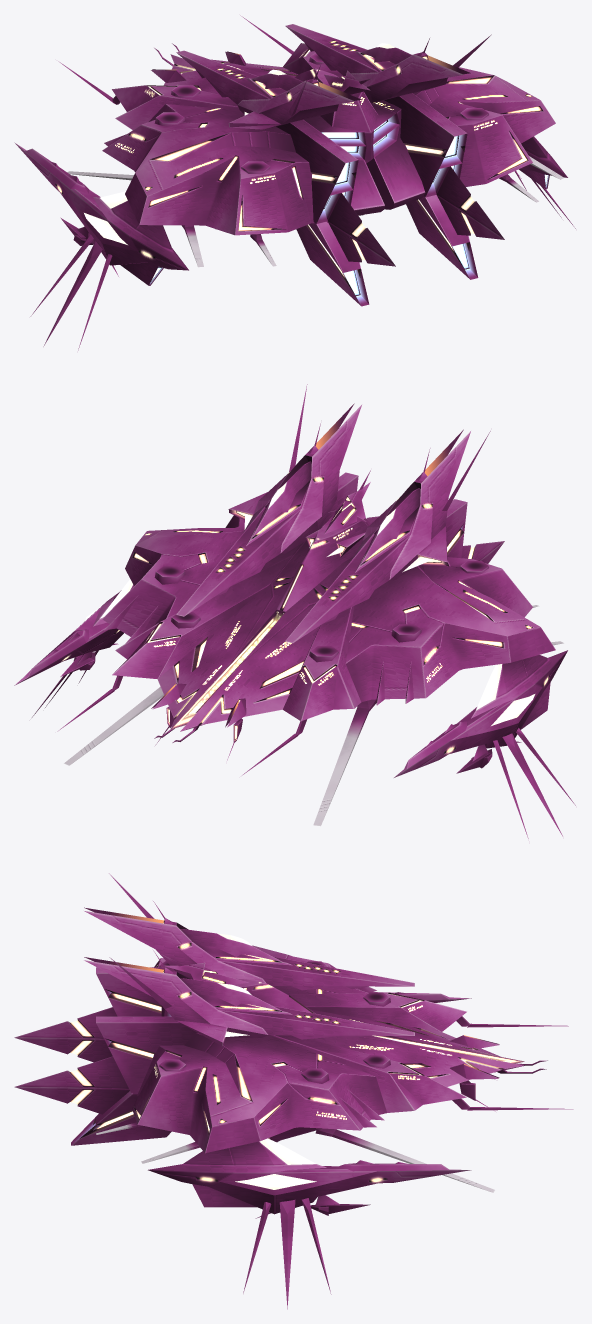
The picture shows the model from 3 angles, top to bottom: view 1: azimuth 30°, elevation 25°; view 2: azimuth 150°, elevation 25°; view 3: azimuth 270°, elevation 25°; orthographic projection. The views are drawn at different scales.
Parts seen in each view (by area): view 1: body; view 2: body; view 3: body.
Part boxes in pixels (left/top/right/bottom): body: left=14, top=15, right=575, bottom=350; body: left=14, top=384, right=575, bottom=838; body: left=14, top=873, right=573, bottom=1309.
Bounding box in the file's own units: 596 × 327 × 601.
2 materials, 2 textured.
